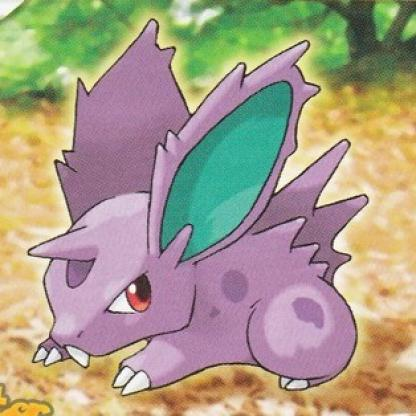Nidorino: (41, 34, 379, 404)
